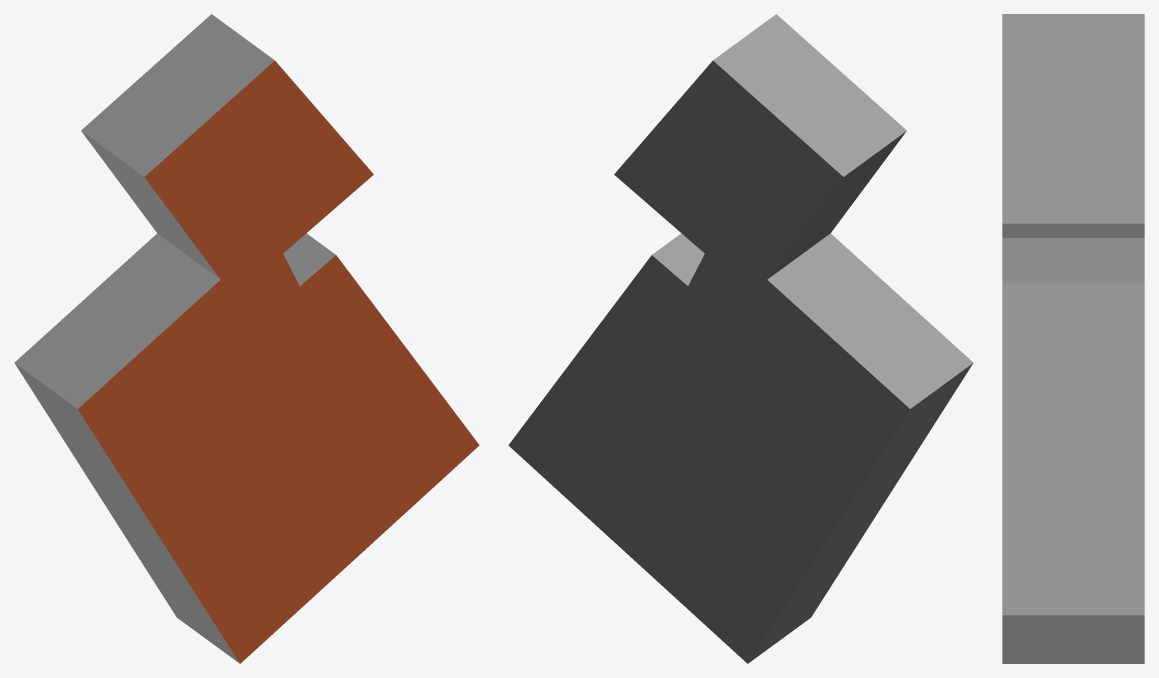
File: construction_7055_assumed_A_Casa_h6m.obj
The picture shows the model from 3 angles, left to right: view 1: azimuth 30°, elevation 25°; view 2: azimuth 150°, elevation 25°; view 3: azimuth 270°, elevation 25°; orthographic projection. The views are drawn at different scales.
Parts seen in each view (by area): view 1: construction_7055_assumed_A_Casa; view 2: construction_7055_assumed_A_Casa; view 3: construction_7055_assumed_A_Casa.
Boxes of the visible parts, x1,y1,x2,y2 form: construction_7055_assumed_A_Casa: [14, 14, 479, 663]; construction_7055_assumed_A_Casa: [508, 14, 973, 663]; construction_7055_assumed_A_Casa: [1002, 14, 1144, 663].
Bounding box in the file's own units: 21.95 × 31.06 × 6.
